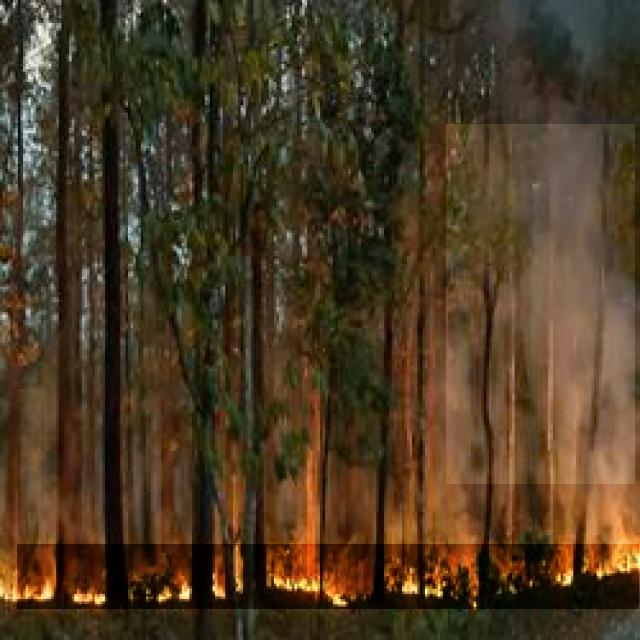Fire: (17, 544, 639, 609)
Smoke: (446, 124, 635, 484)
